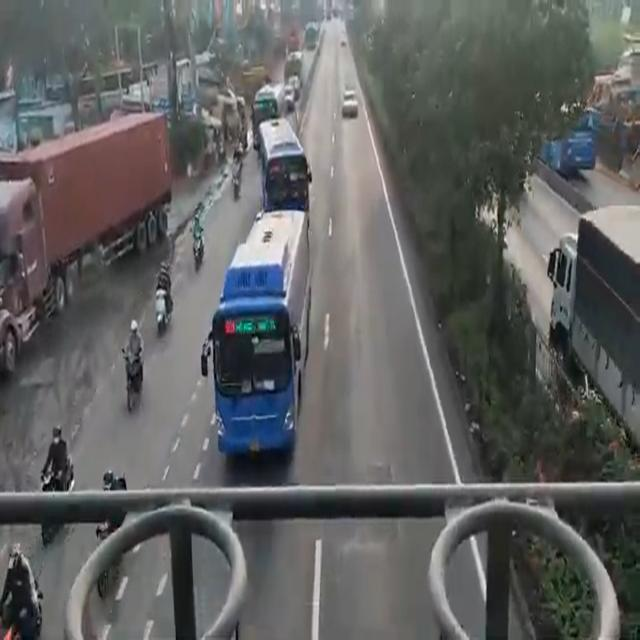bus: (214, 212, 310, 465), (255, 121, 309, 222)
motor: (117, 315, 150, 406), (36, 423, 73, 497), (155, 251, 175, 339), (190, 214, 210, 276)
truck: (0, 101, 160, 334), (549, 206, 640, 442)
